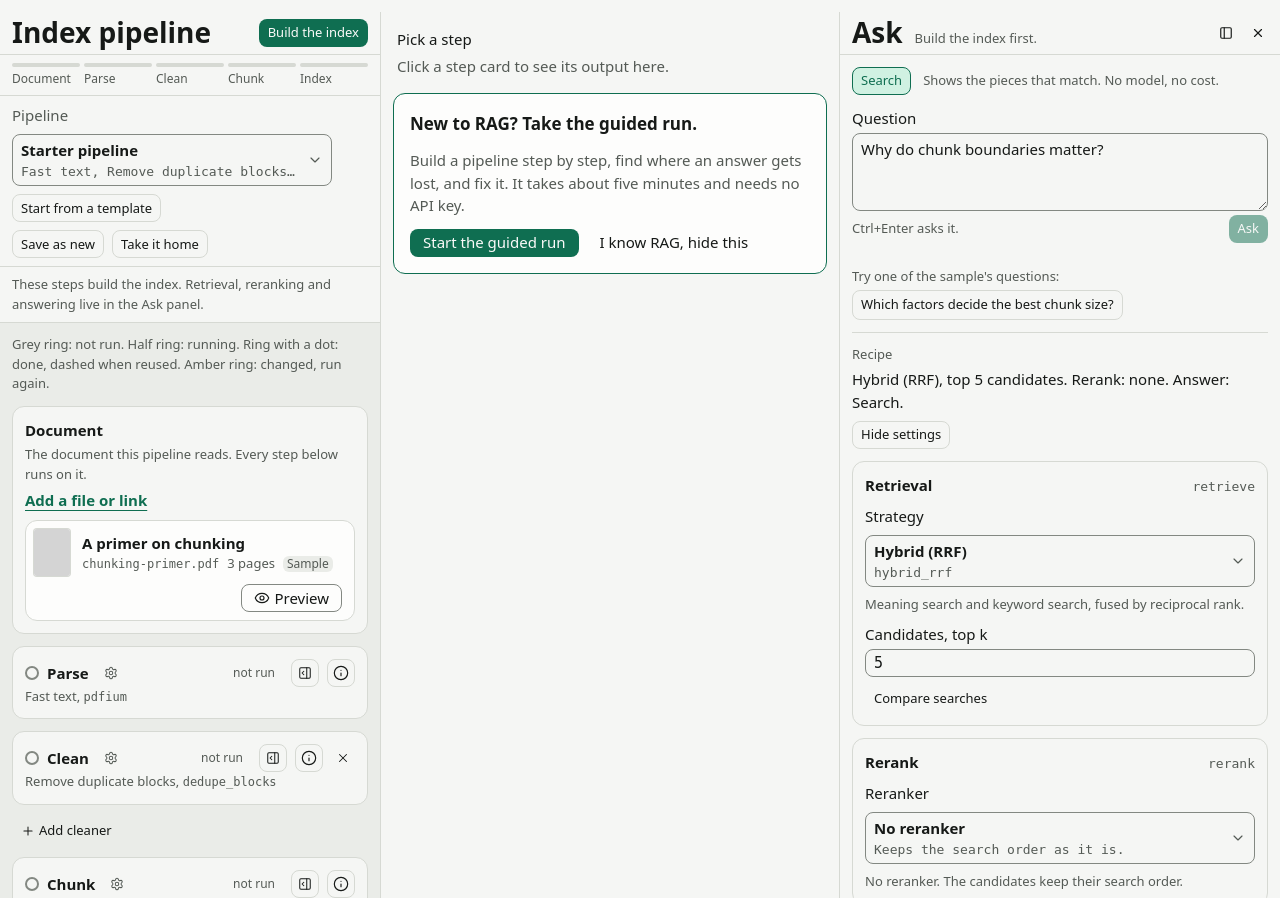
it: the guided run on Build › Start puts the primer and the size-factors question in the graph and shows step 1 of 7
Expected: the element named "Guided run invitation" is shown, [393,93,827,274]
Click the button "Start the guided run".
click(494, 243)  # box [410,229,578,257]
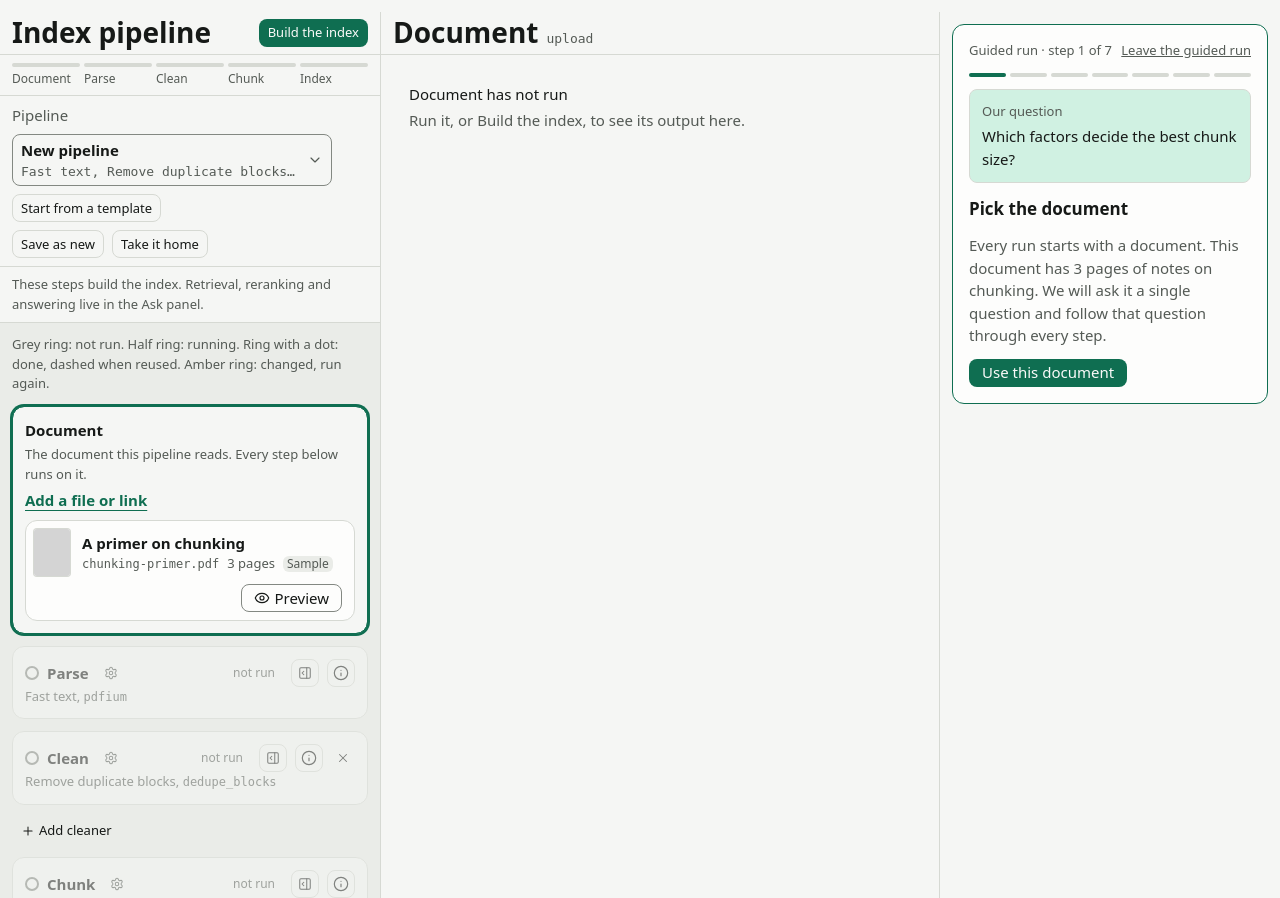
Expected: the element "Guided run" is shown, [952,24,1268,404]
Expected: the text "Guided run · step 1 of 7" is shown, [969,41,1112,60]
